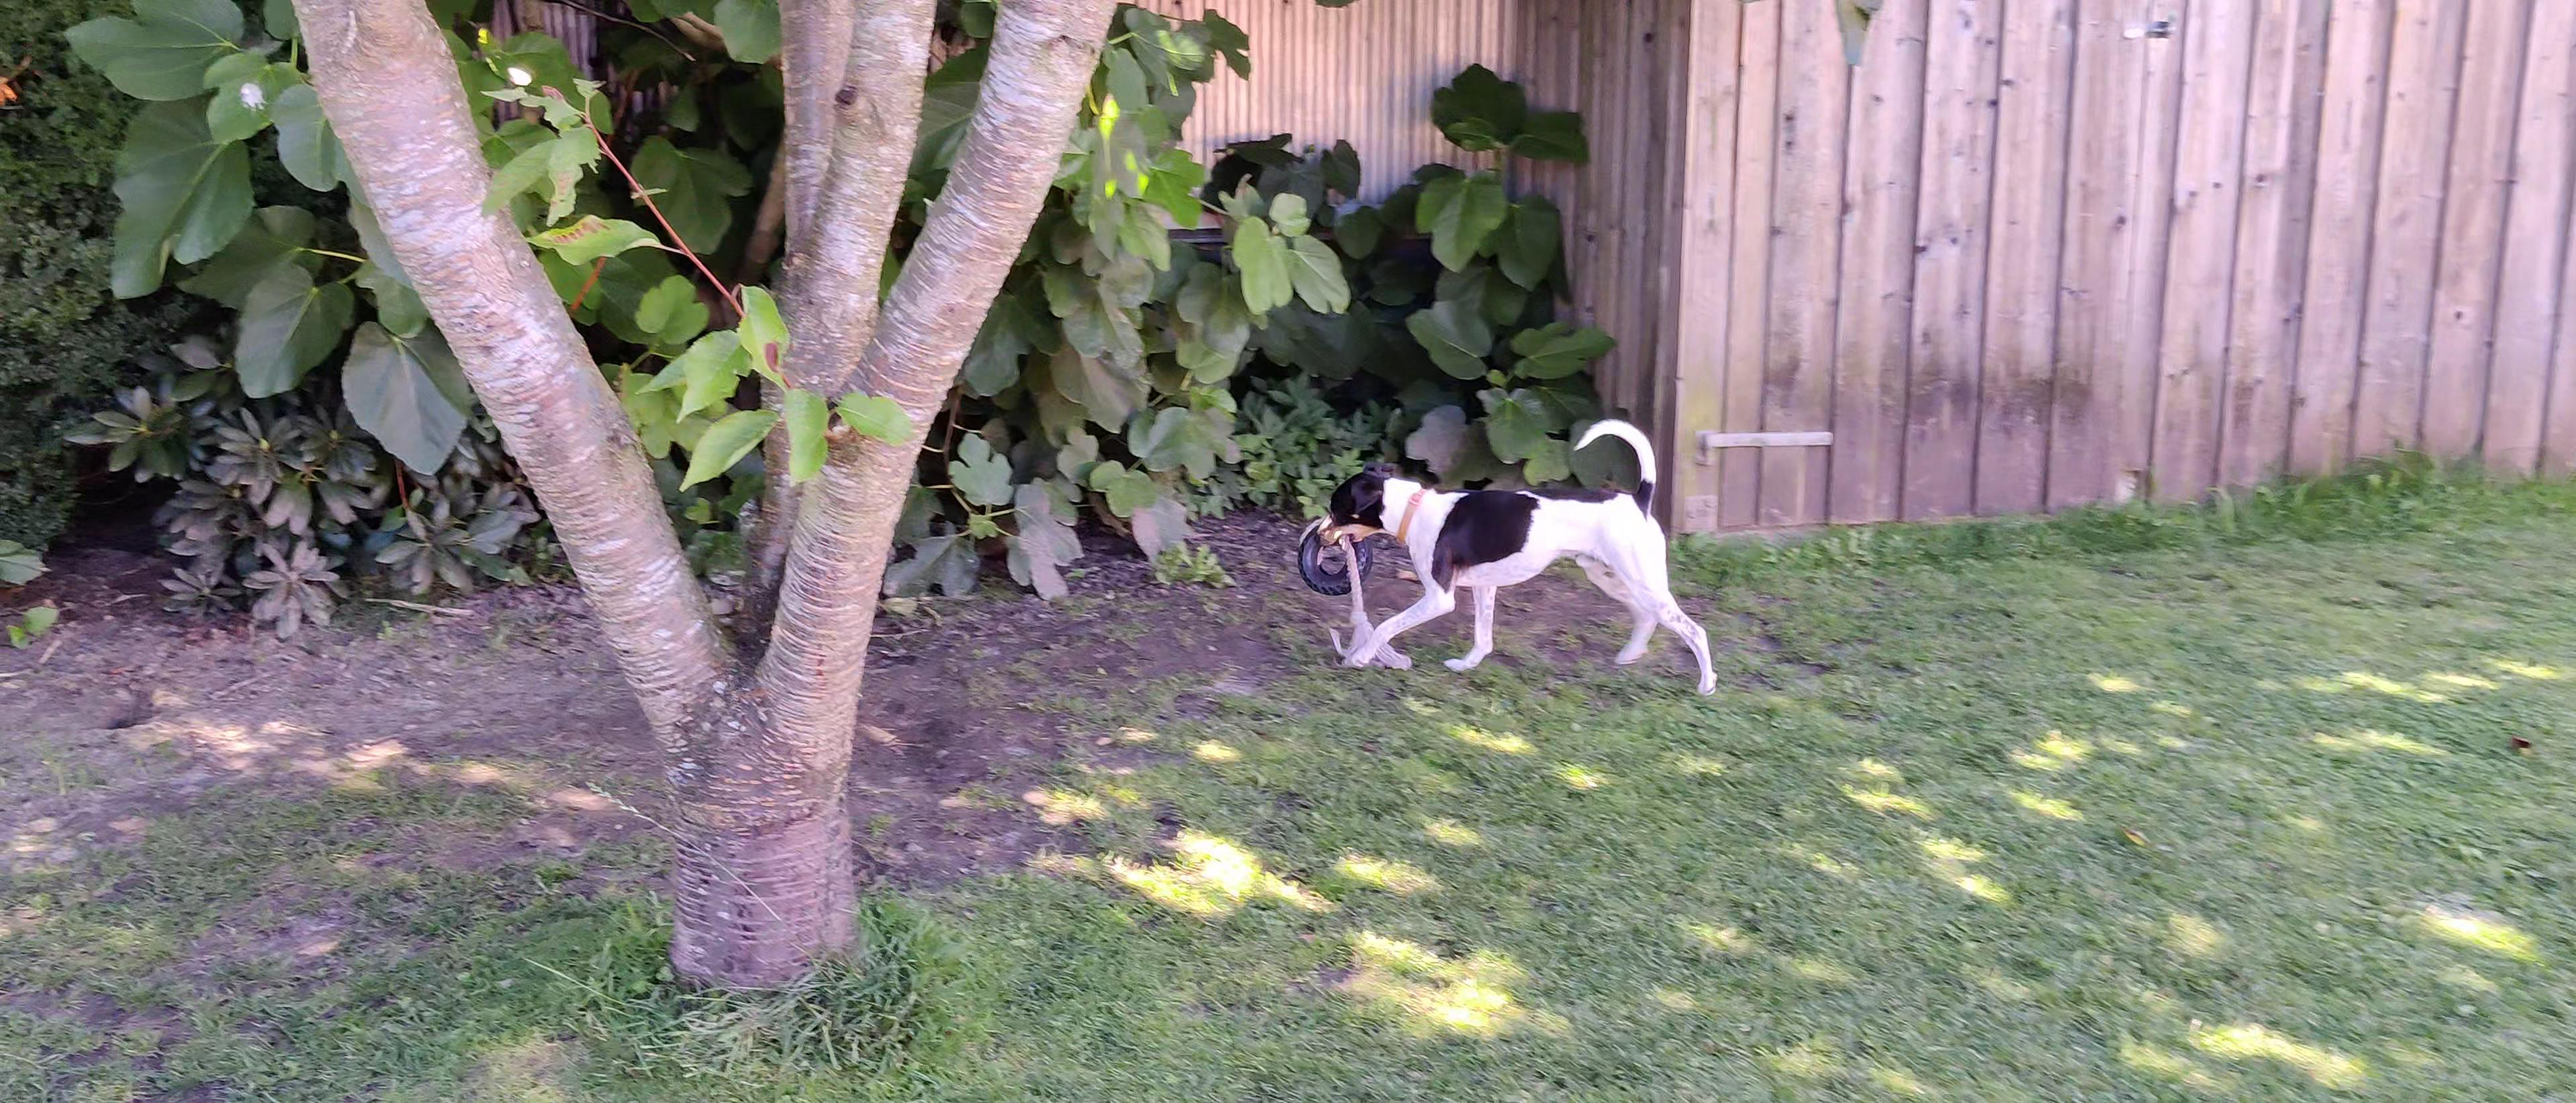Dog: (1313, 416, 1720, 700)
